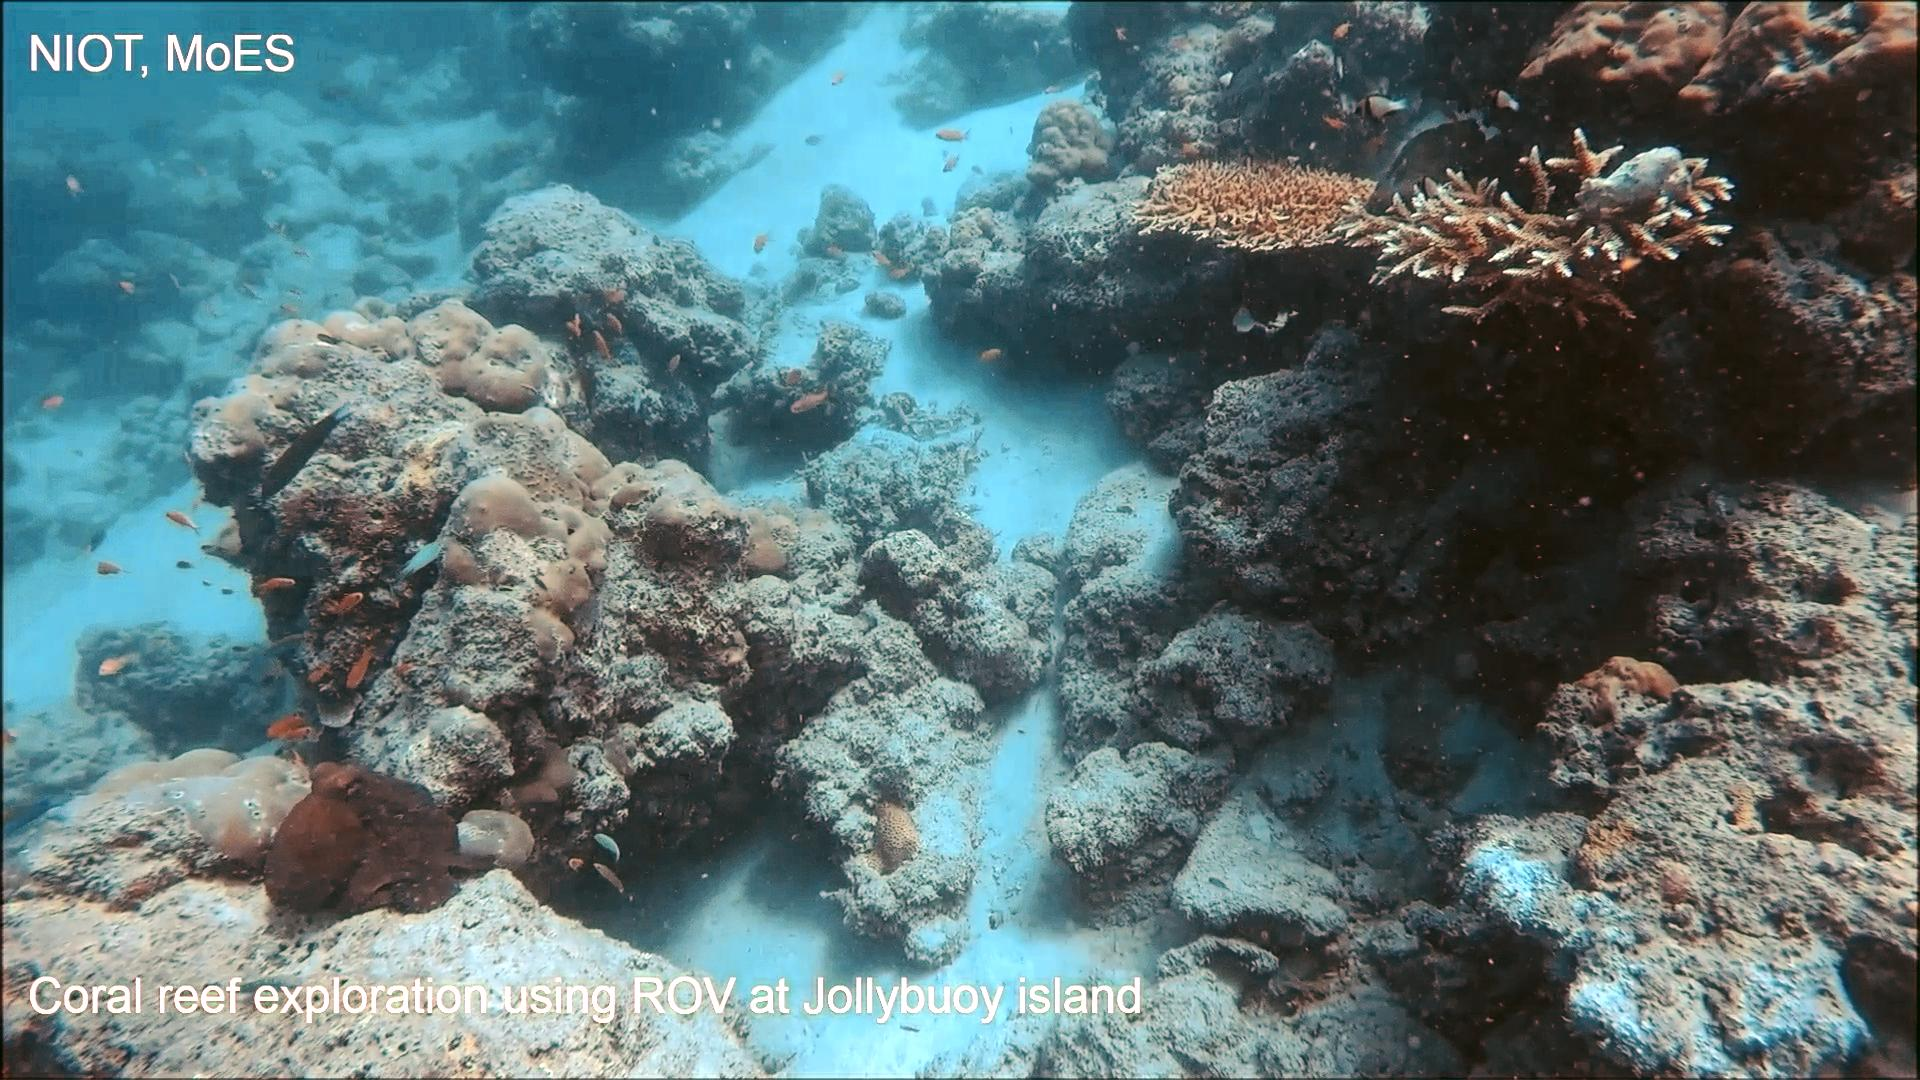Porites-Porites pukoensis: (380, 289, 659, 669)
